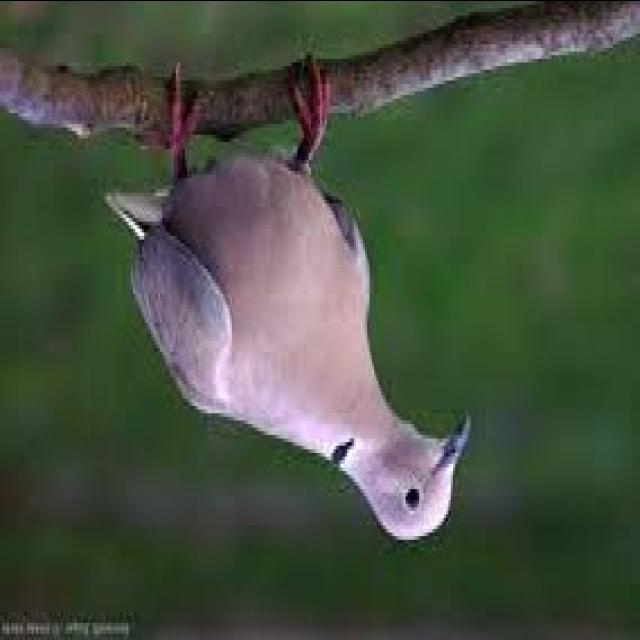pigeon: (92, 113, 488, 564)
